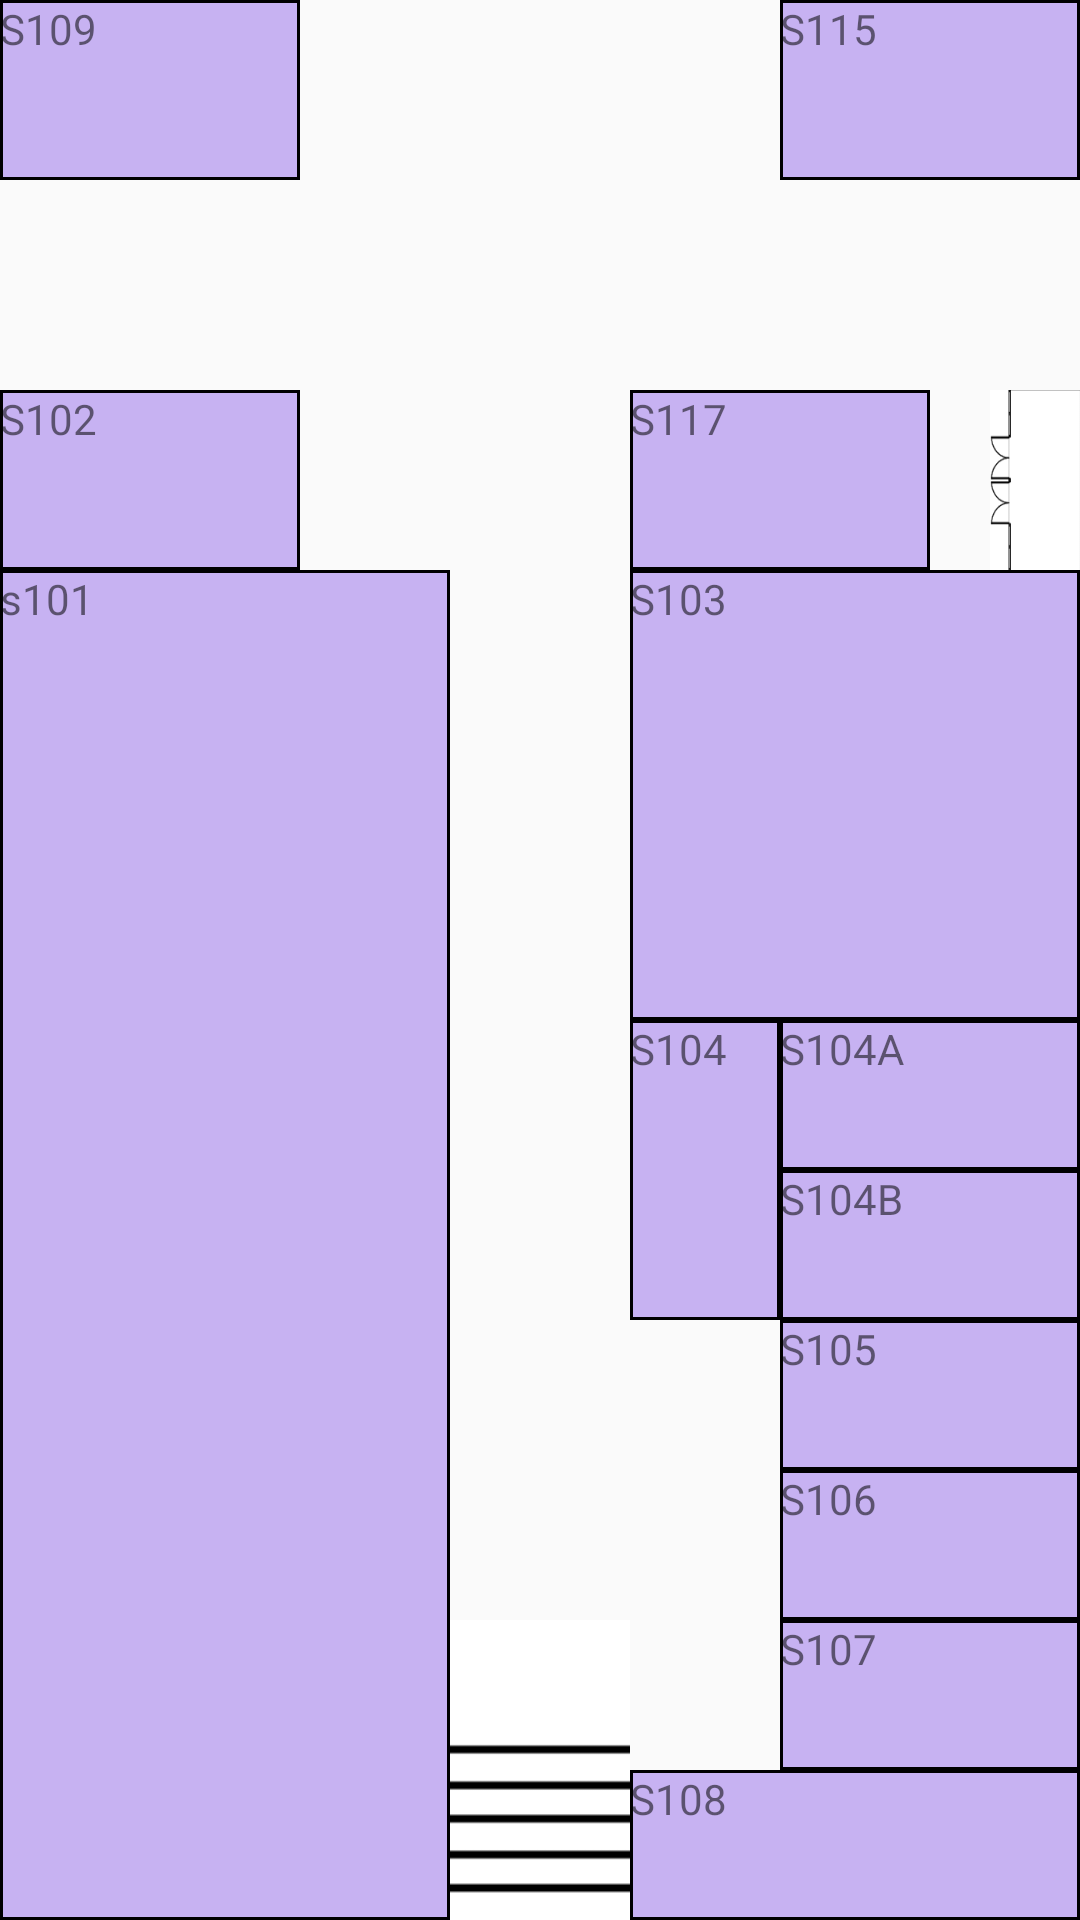

Named icons in this screenshot (1080px×1920px) and their bounding boxes, (x1, y1, x2, y2):
gates: (990, 390, 1080, 570)
stairs: (450, 1745, 630, 1893)
